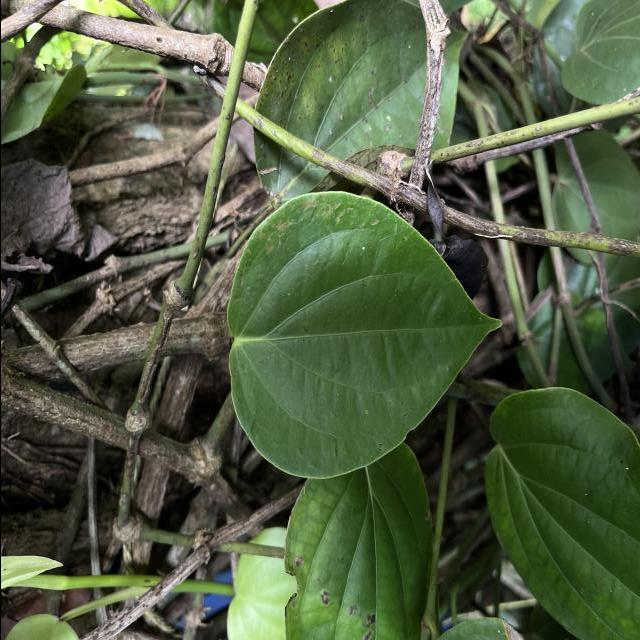Piper nigrum: (225, 189, 505, 481)
